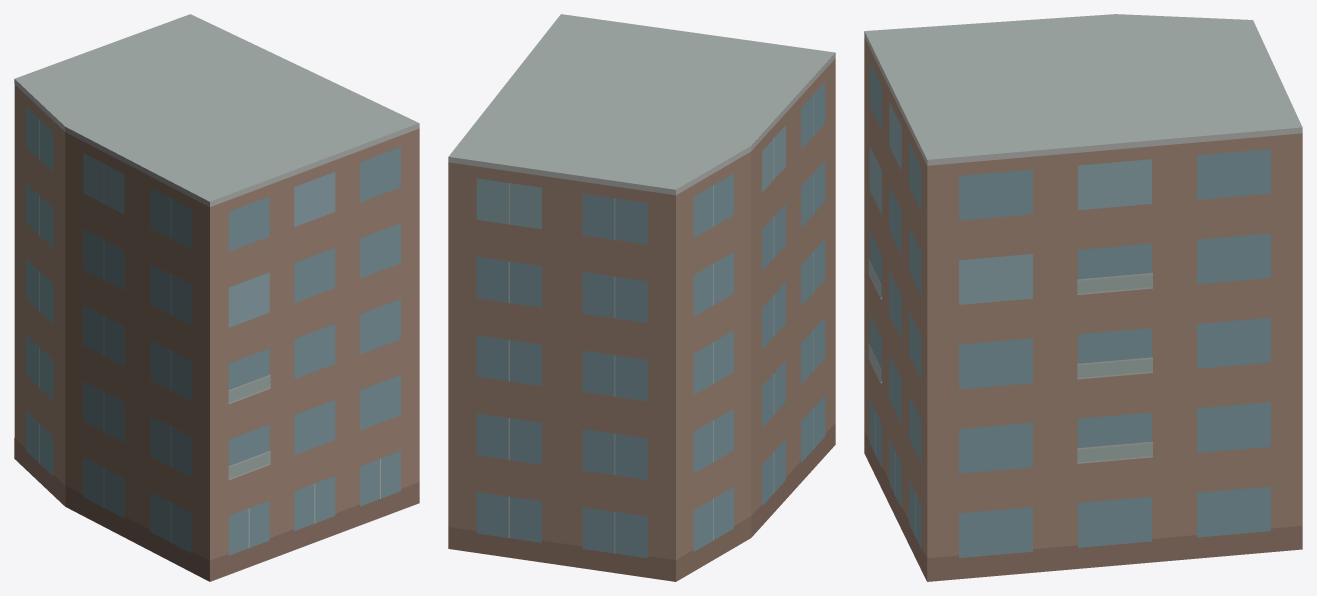
Rendered from survey-upis-32497375.glb.
3 renders of one model, left to right at view 1: azimuth 30°, elevation 25°; view 2: azimuth 150°, elevation 25°; view 3: azimuth 270°, elevation 25°, orthographic. The views are drawn at different scales.
Visible parts, largest first — view 1: survey-upis-32497375.tmp; view 2: survey-upis-32497375.tmp; view 3: survey-upis-32497375.tmp.
Part boxes in pixels (x1,y1,x2,y2): survey-upis-32497375.tmp: (14, 14, 419, 581); survey-upis-32497375.tmp: (448, 14, 835, 581); survey-upis-32497375.tmp: (864, 14, 1302, 581).
Bounding box in the file's own units: 12.91 × 17.4 × 16.39.
